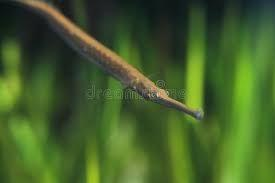Long-Snouted Pipefish: (5, 0, 207, 125)
